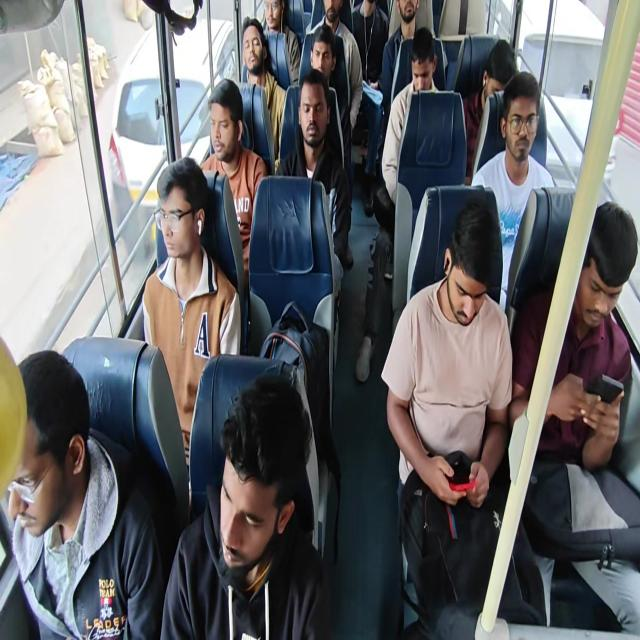person: (381, 200, 516, 637), (509, 199, 639, 633), (7, 349, 164, 639), (160, 373, 330, 639), (142, 156, 241, 484), (354, 26, 441, 383), (470, 71, 555, 313), (275, 68, 353, 270), (199, 78, 268, 276), (380, 26, 440, 205), (351, 0, 389, 216), (462, 39, 518, 180), (309, 0, 363, 132), (240, 17, 286, 160), (308, 24, 349, 172), (378, 0, 420, 119), (261, 0, 301, 86), (351, 0, 389, 87), (310, 23, 338, 86)
